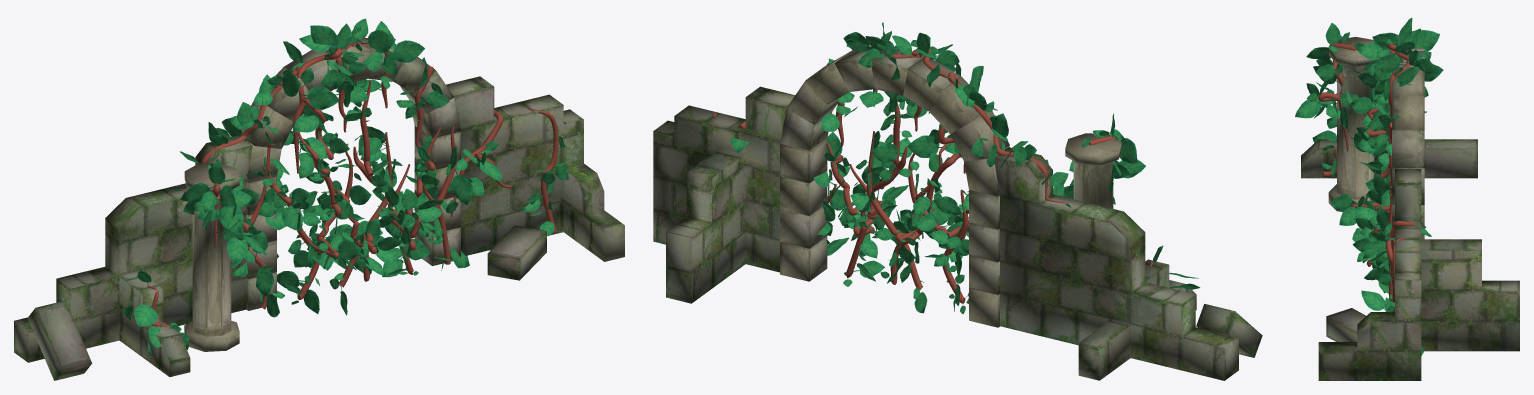
Rendered from Gate_Vines-optimized.glb.
3 views of the same model, side by side, from view 1: azimuth 30°, elevation 25°; view 2: azimuth 150°, elevation 25°; view 3: azimuth 270°, elevation 25° (orthographic). The views are drawn at different scales.
Visible parts, largest first — view 1: Vines, Wall_left, Wall_right, GATE, Gatestone, Pillar_02, Brick_loose_01, Brick_loose_02; view 2: Wall_left, Wall_right, Gatestone, GATE, Vines, Pillar_02, Brick_loose_01; view 3: Wall_right, Vines, Pillar_02, GATE, Gatestone, Wall_left, Brick_loose_02.
Boxes of the visible parts, x1=… form: Vines: x1=122, y1=18, x2=568, y2=355; Wall_left: x1=14, y1=135, x2=252, y2=376; Wall_right: x1=446, y1=76, x2=624, y2=261; GATE: x1=258, y1=79, x2=443, y2=315; Gatestone: x1=241, y1=38, x2=460, y2=310; Pillar_02: x1=184, y1=163, x2=239, y2=351; Brick_loose_01: x1=27, y1=300, x2=92, y2=380; Brick_loose_02: x1=487, y1=225, x2=546, y2=280; Wall_left: x1=994, y1=147, x2=1238, y2=380; Wall_right: x1=653, y1=86, x2=794, y2=303; Gatestone: x1=780, y1=49, x2=1010, y2=327; GATE: x1=824, y1=94, x2=968, y2=313; Vines: x1=712, y1=22, x2=1200, y2=320; Pillar_02: x1=1065, y1=133, x2=1121, y2=208; Brick_loose_01: x1=1196, y1=304, x2=1262, y2=357; Wall_right: x1=1318, y1=169, x2=1519, y2=380; Vines: x1=1295, y1=18, x2=1443, y2=355; Pillar_02: x1=1328, y1=37, x2=1374, y2=212; GATE: x1=1330, y1=96, x2=1391, y2=294; Gatestone: x1=1392, y1=48, x2=1424, y2=293; Wall_left: x1=1301, y1=114, x2=1477, y2=178; Brick_loose_02: x1=1326, y1=308, x2=1365, y2=341.
Bounding box in the file's own units: 86.8 × 43.94 × 33.1.
Materials: 4 (3 with a texture image).
